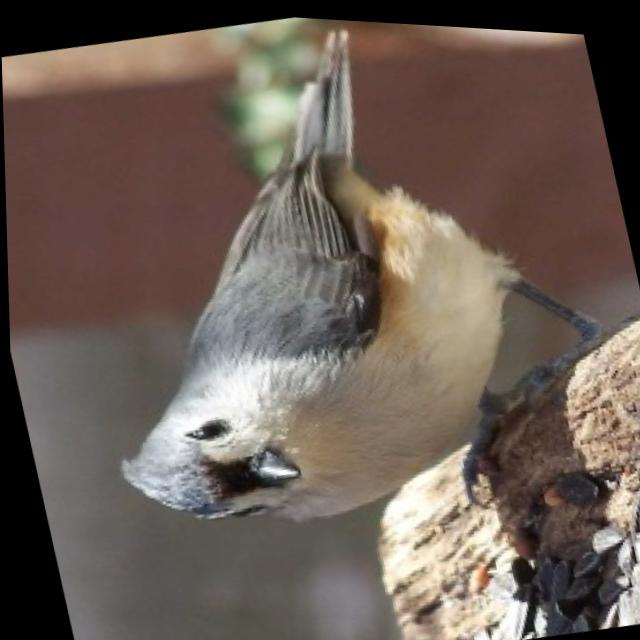sparrow: (24, 1, 640, 584)
